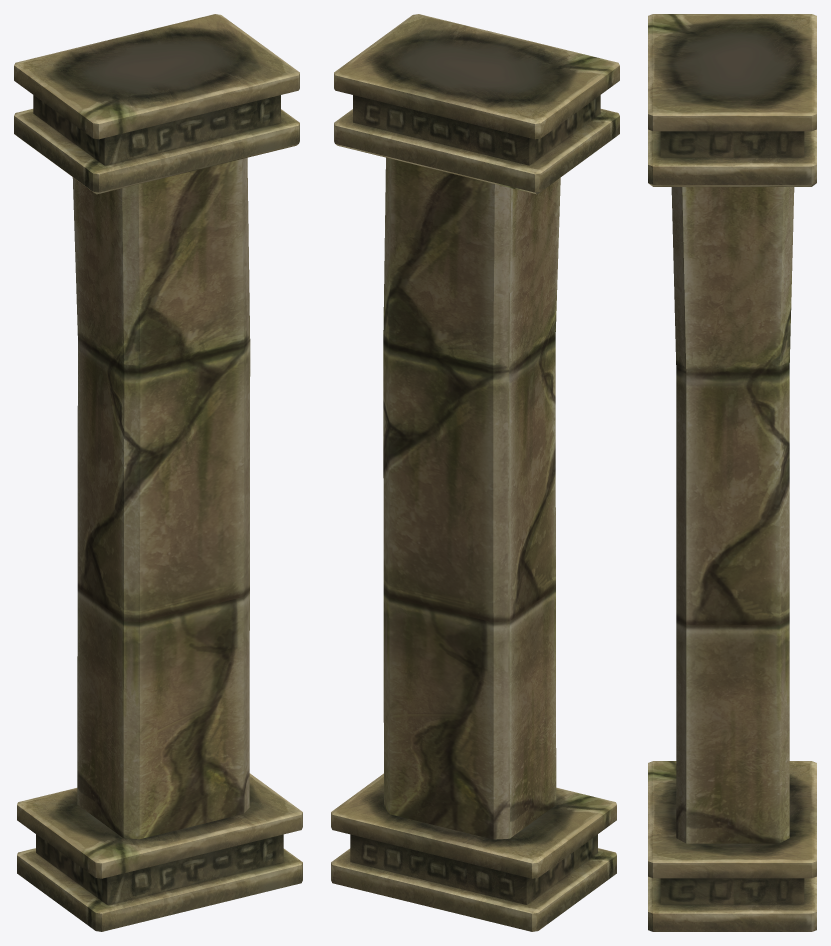
Rendered from column.FBX.
The picture shows the model from 3 angles, left to right: view 1: azimuth 30°, elevation 25°; view 2: azimuth 150°, elevation 25°; view 3: azimuth 270°, elevation 25°; orthographic projection.
Visible parts, largest first — view 1: column; view 2: column; view 3: column.
Part boxes in pixels (box(x1,y1,x2,y2)): column: box(14, 14, 302, 931); column: box(331, 14, 619, 931); column: box(648, 14, 816, 931).
Size of the model in its own units: 1.87 by 6.88 by 1.29.
